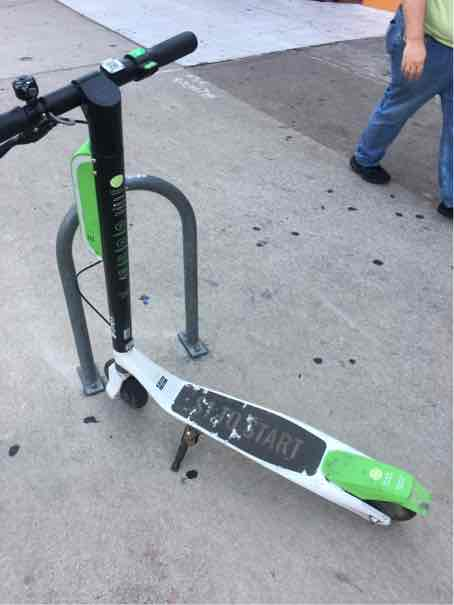scooter: (10, 56, 430, 567)
